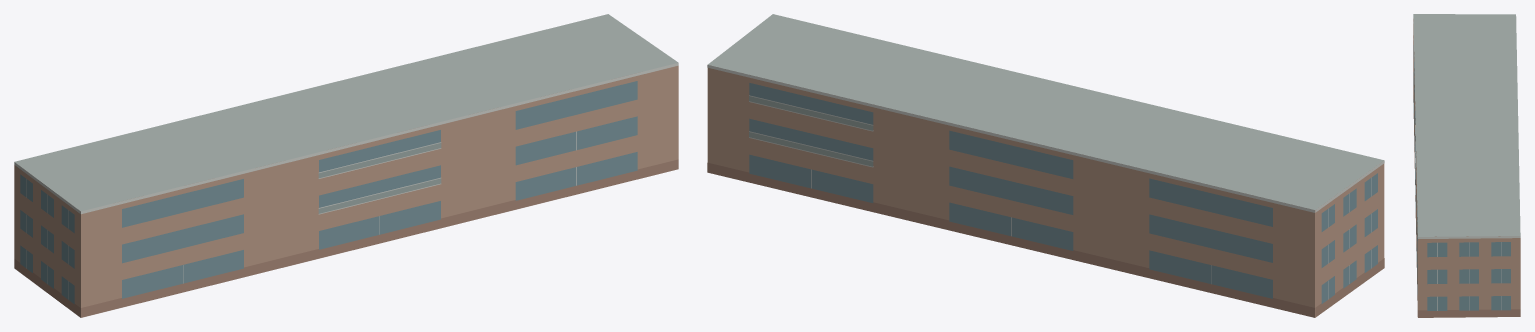
File: survey-upis-32520876.glb
The picture shows the model from 3 angles, left to right: view 1: azimuth 30°, elevation 25°; view 2: azimuth 150°, elevation 25°; view 3: azimuth 270°, elevation 25°; orthographic projection. The views are drawn at different scales.
Parts seen in each view (by area): view 1: survey-upis-32520876.tmp; view 2: survey-upis-32520876.tmp; view 3: survey-upis-32520876.tmp.
Part boxes in pixels (x1,y1,x2,y2): survey-upis-32520876.tmp: (14, 14, 678, 317); survey-upis-32520876.tmp: (707, 14, 1384, 317); survey-upis-32520876.tmp: (1413, 14, 1520, 317).
Bounding box in the file's own units: 54.05 × 9.15 × 10.99.
